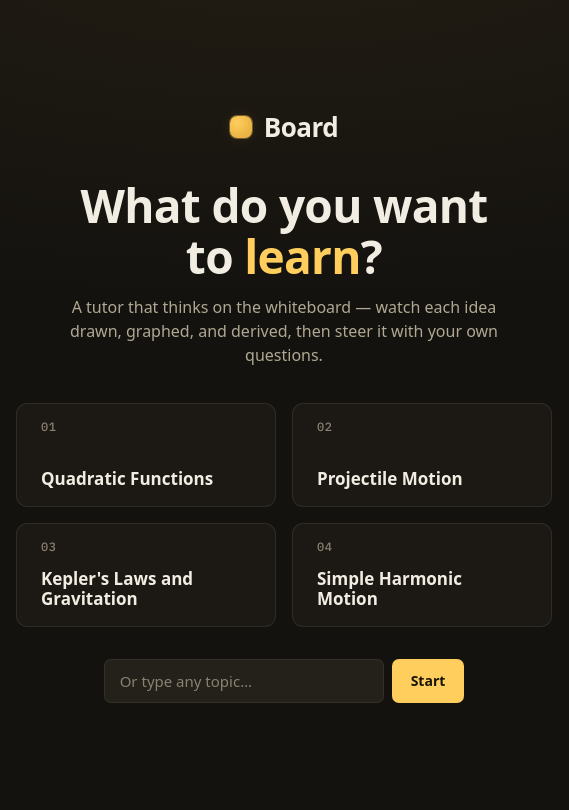
Test: App › surfaces a createSession failure as an error message instead of crashing
The width and height of the screenshot is (569, 810).
Click the button "Quadratic Functions": click(127, 479) [16, 403, 276, 507]
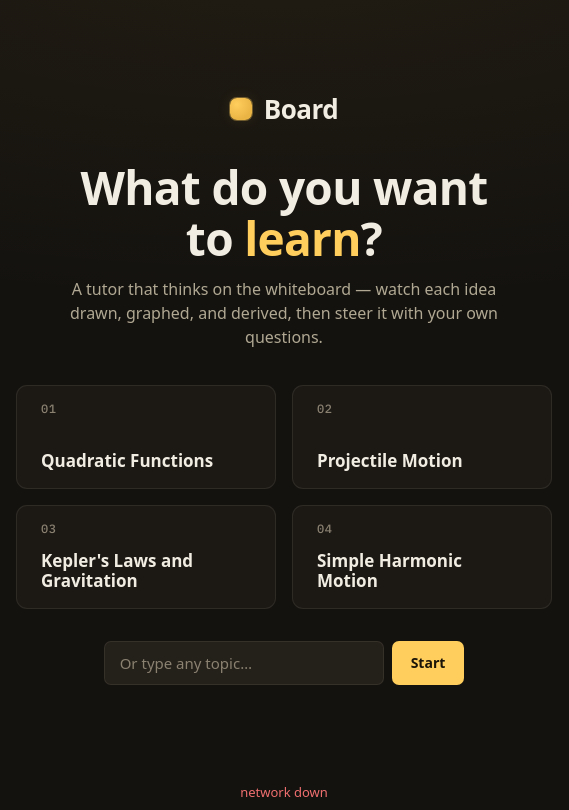
Now the text with class "app-error" reads "network down", box [240, 783, 328, 801]
